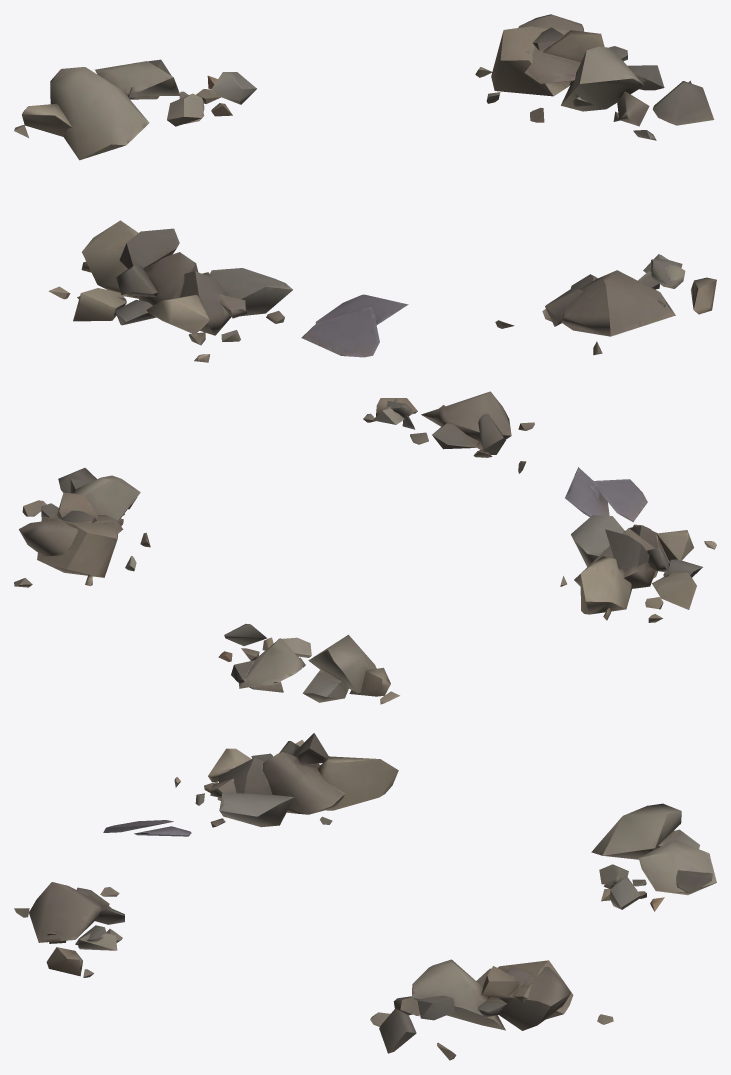
The model's file is rough-cave-3.glb.
3 renders of one model, top to bottom at view 1: azimuth 30°, elevation 25°; view 2: azimuth 150°, elevation 25°; view 3: azimuth 270°, elevation 25°, orthographic. The views are drawn at different scales.
Parts seen in each view (by area): view 1: rough-cave-3; view 2: rough-cave-3; view 3: rough-cave-3.
Boxes of the visible parts, x1,y1,x2,y2 form: rough-cave-3: (14, 14, 716, 362); rough-cave-3: (14, 391, 716, 704); rough-cave-3: (14, 733, 716, 1060).
Bounding box in the file's own units: 1.81 × 0.2082 × 1.81.
Materials: 1 (1 with a texture image).
